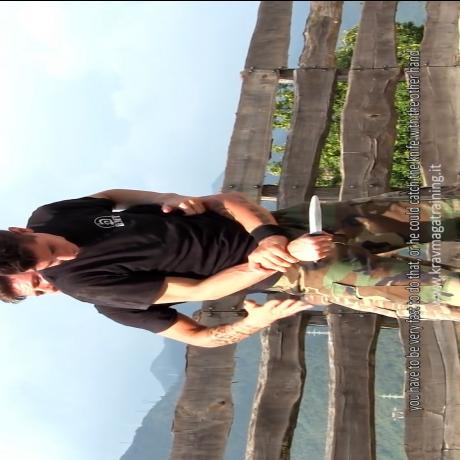1: (0, 188, 460, 304)
weapon: (310, 194, 324, 264)
